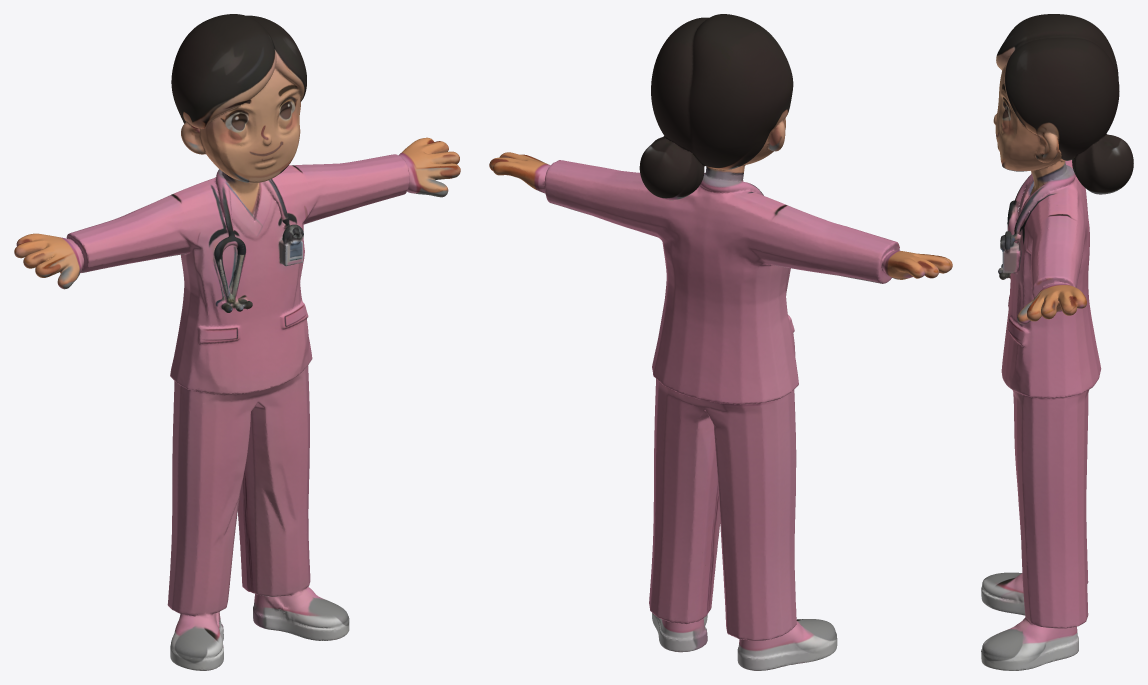
Rendered from nur_nurse.glb.
3 views of the same model, side by side, from view 1: azimuth 30°, elevation 25°; view 2: azimuth 150°, elevation 25°; view 3: azimuth 270°, elevation 25° (orthographic). The views are drawn at different scales.
Parts seen in each view (by area): view 1: tripo_node_684f98cb-4734-4a8a-9ba5-3c4a8310431f; view 2: tripo_node_684f98cb-4734-4a8a-9ba5-3c4a8310431f; view 3: tripo_node_684f98cb-4734-4a8a-9ba5-3c4a8310431f.
Boxes of the visible parts, bbox=[...] form: tripo_node_684f98cb-4734-4a8a-9ba5-3c4a8310431f: bbox=[14, 14, 460, 670]; tripo_node_684f98cb-4734-4a8a-9ba5-3c4a8310431f: bbox=[489, 14, 952, 670]; tripo_node_684f98cb-4734-4a8a-9ba5-3c4a8310431f: bbox=[981, 14, 1133, 670].
Bounding box in the file's own units: 0.7459 × 1 × 0.226.
1 material, 1 textured.
